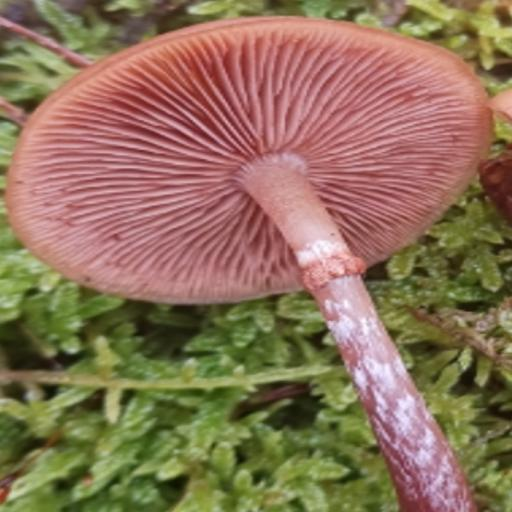mushroom: (7, 16, 494, 373)
